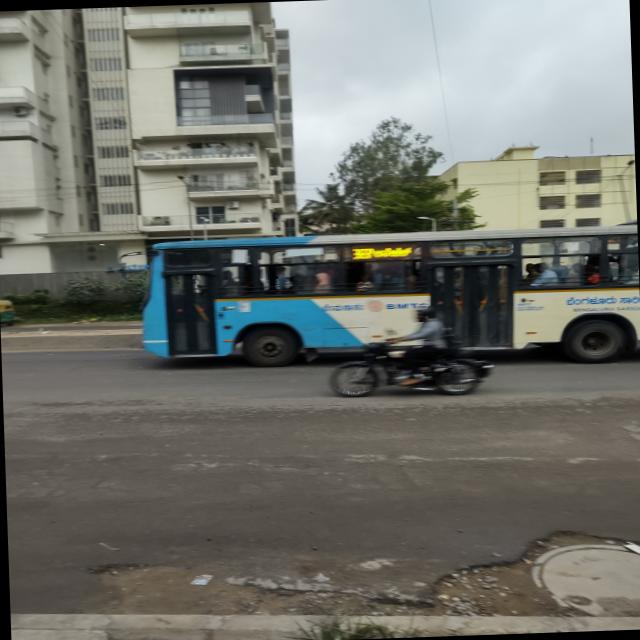bus: (131, 208, 640, 346)
display: (347, 240, 422, 262)
dnumber: (352, 246, 374, 259)
